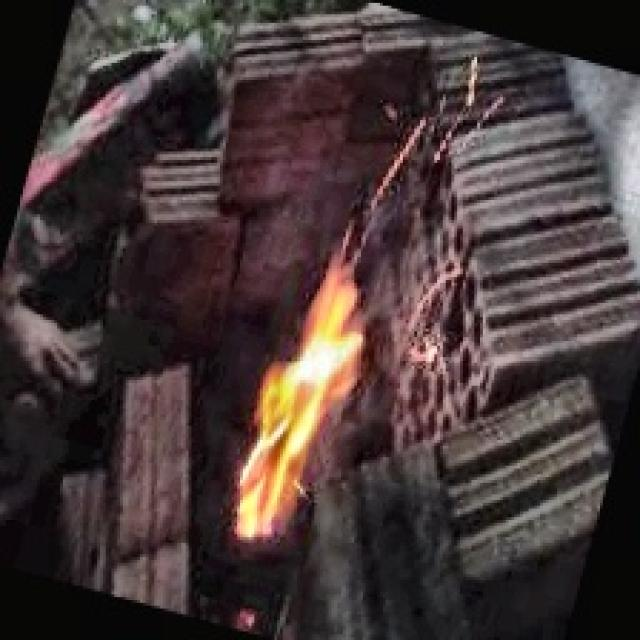fire: (166, 222, 443, 587)
